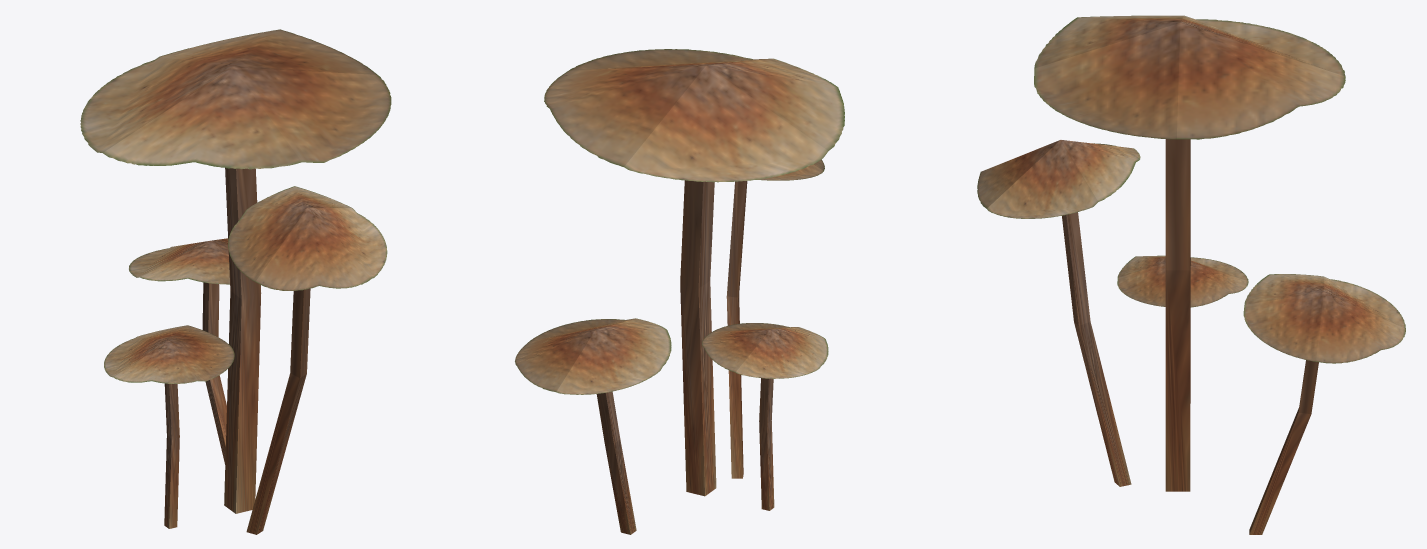
Rendered from mashroom2.fbx.
3 views of the same model, side by side, from view 1: azimuth 30°, elevation 25°; view 2: azimuth 150°, elevation 25°; view 3: azimuth 270°, elevation 25° (orthographic). The views are drawn at different scales.
Parts seen in each view (by area): view 1: Cube.001; view 2: Cube.001; view 3: Cube.001.
Boxes of the visible parts, bbox=[...] form: Cube.001: bbox=[80, 29, 391, 534]; Cube.001: bbox=[515, 49, 844, 534]; Cube.001: bbox=[977, 15, 1405, 534].
Bounding box in the file's own units: 20.77 × 32.11 × 27.74.
